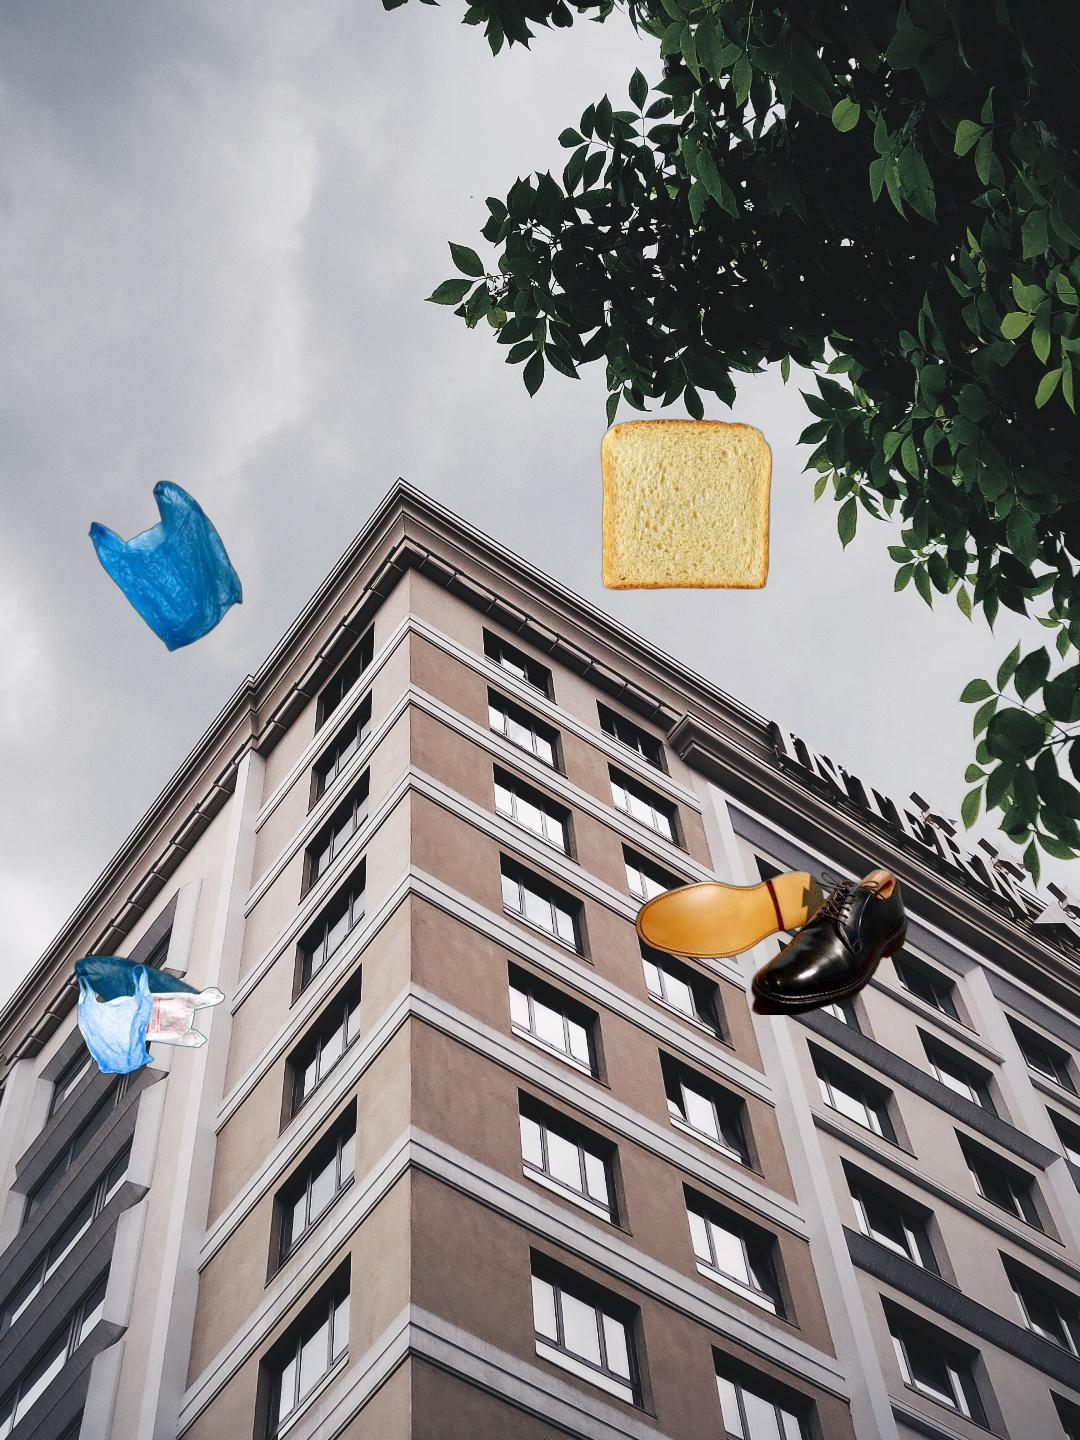biological: (598, 416, 775, 593)
paper: (1066, 158, 1080, 515)
plastic-bag: (86, 478, 244, 653), (71, 952, 228, 1076)
shoes: (632, 866, 912, 1015)
